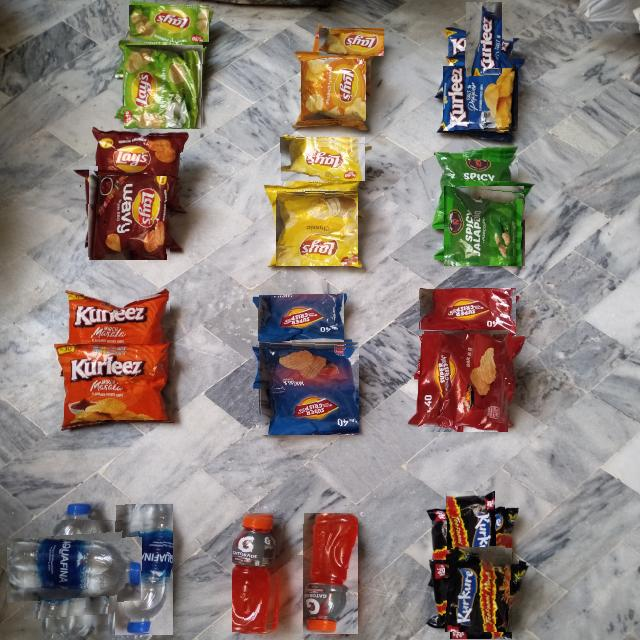Plastic: (24, 520, 124, 620), (258, 341, 359, 435), (418, 334, 512, 428), (64, 346, 175, 420), (115, 504, 173, 635), (85, 170, 171, 257), (303, 512, 358, 634), (124, 46, 205, 128), (444, 185, 525, 266), (276, 190, 358, 266), (232, 514, 284, 632), (443, 554, 519, 632), (70, 291, 171, 344), (446, 63, 516, 134), (418, 288, 516, 336), (436, 501, 505, 569), (258, 294, 344, 342), (302, 59, 364, 123), (279, 136, 365, 181), (98, 133, 184, 176), (456, 12, 513, 68), (128, 4, 209, 42), (442, 150, 518, 181), (318, 27, 384, 56)
